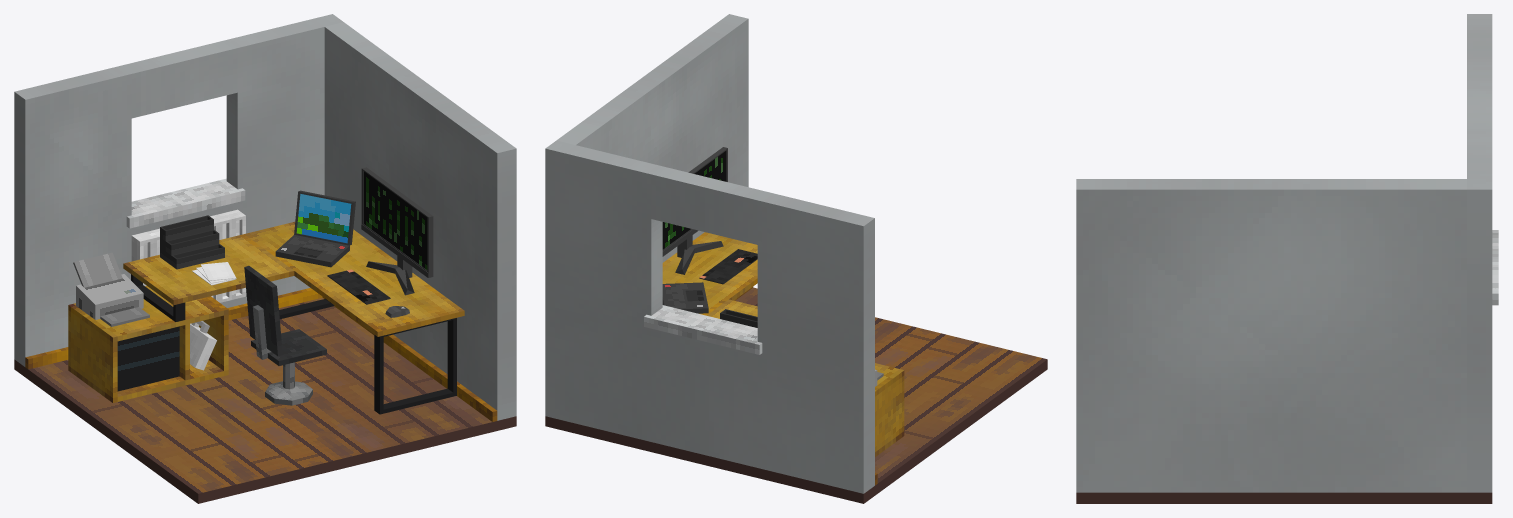
The model's file is room.gltf.
3 views of the same model, side by side, from view 1: azimuth 30°, elevation 25°; view 2: azimuth 150°, elevation 25°; view 3: azimuth 270°, elevation 25° (orthographic). The views are drawn at different scales.
Visible parts, largest first — view 1: cube (×5), floor, cuboid (×16), top long, top, screen, cube_selection, cuboid_selection, radiator, cylinder; view 2: cube (×3), floor, cuboid (×4), top long, screen; view 3: cube (×2), floor, cuboid.
Part boxes in pixels (x1,y1,x2,y2): cube (×5): (14,14,516,421); floor: (14,297,516,503); cuboid (×16): (73,167,456,414); top long: (244,221,464,336); top: (123,234,294,305); screen: (363,171,427,269); cube_selection: (117,326,179,391); cuboid_selection: (296,194,351,243); radiator: (131,209,245,302); cylinder: (265,381,312,405); cube (×3): (545,14,904,493); floor: (545,287,1047,503); cuboid (×4): (644,147,762,354); top long: (662,232,757,315); screen: (662,151,726,249); cube (×2): (1076,14,1492,492); floor: (1076,492,1492,503); cuboid: (1492,230,1498,305).
Bounding box in the file's own units: 4.12 × 3.44 × 4.19.
Materials: 14 (14 with a texture image).
